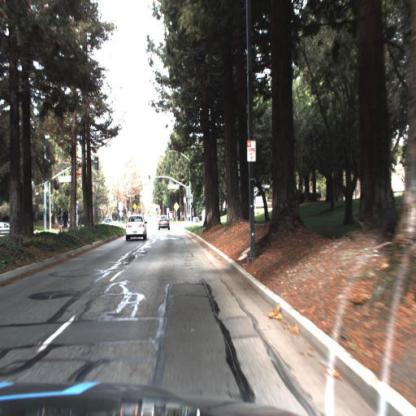biker: (68, 215, 73, 231)
car: (125, 214, 148, 244), (157, 212, 172, 232), (1, 222, 13, 237), (104, 216, 114, 228)
trafficLight-Green: (191, 193, 195, 205), (147, 175, 151, 184)
